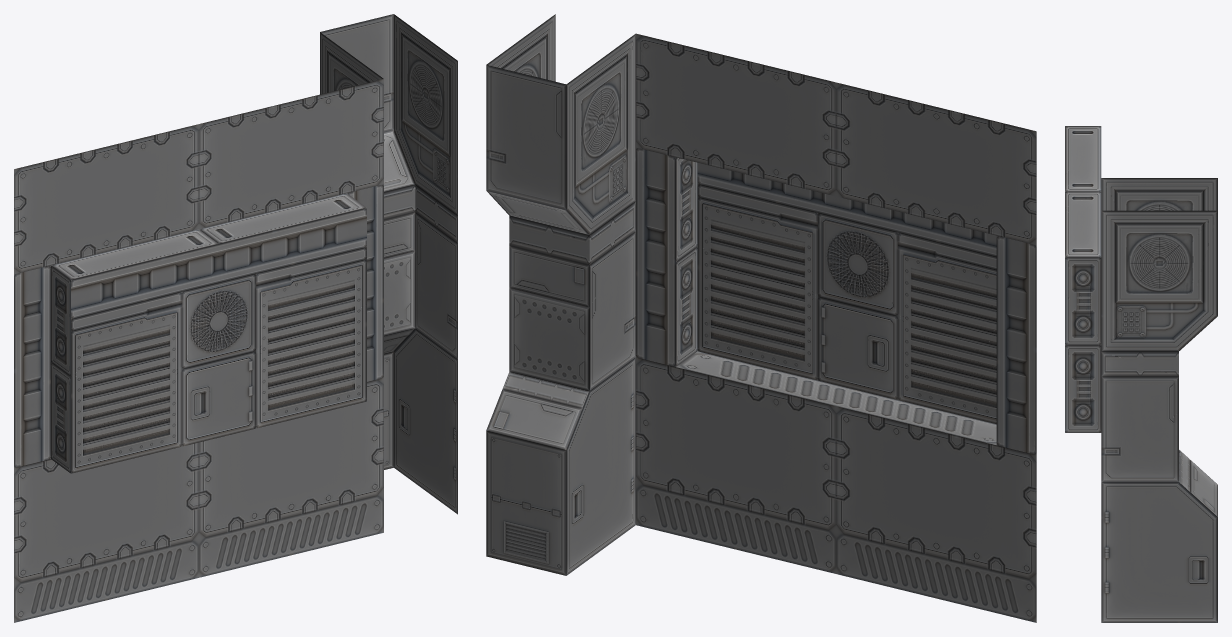
Rendered from wall02.fbx.
3 views of the same model, side by side, from view 1: azimuth 30°, elevation 25°; view 2: azimuth 150°, elevation 25°; view 3: azimuth 270°, elevation 25° (orthographic). The views are drawn at different scales.
Parts seen in each view (by area): view 1: polySurface212; view 2: polySurface212; view 3: polySurface212.
Part boxes in pixels (<box>): polySurface212: <box>14,14,457,622</box>; polySurface212: <box>486,14,1036,622</box>; polySurface212: <box>1065,126,1217,622</box>.
Bounding box in the file's own units: 307 × 300 × 101.
